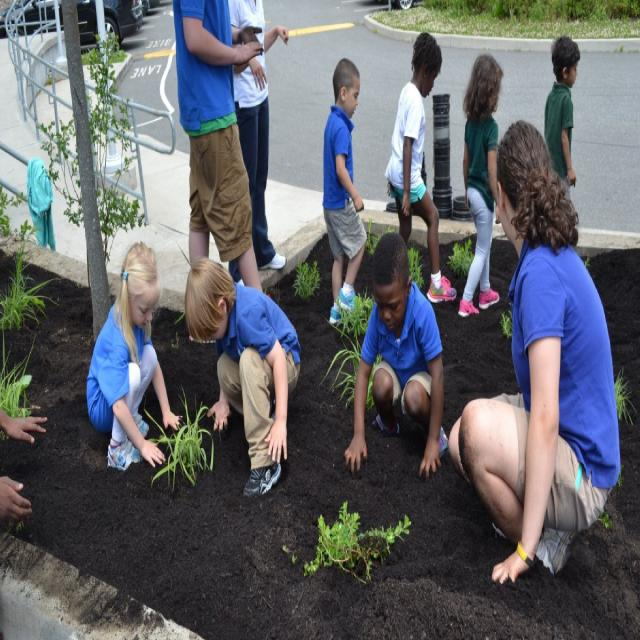body: (445, 117, 622, 594), (183, 255, 302, 502), (172, 0, 267, 306), (342, 226, 450, 484), (84, 240, 188, 477), (383, 30, 458, 303), (228, 0, 290, 288), (456, 48, 507, 318), (321, 55, 369, 324), (1, 394, 52, 554), (542, 34, 581, 201)
